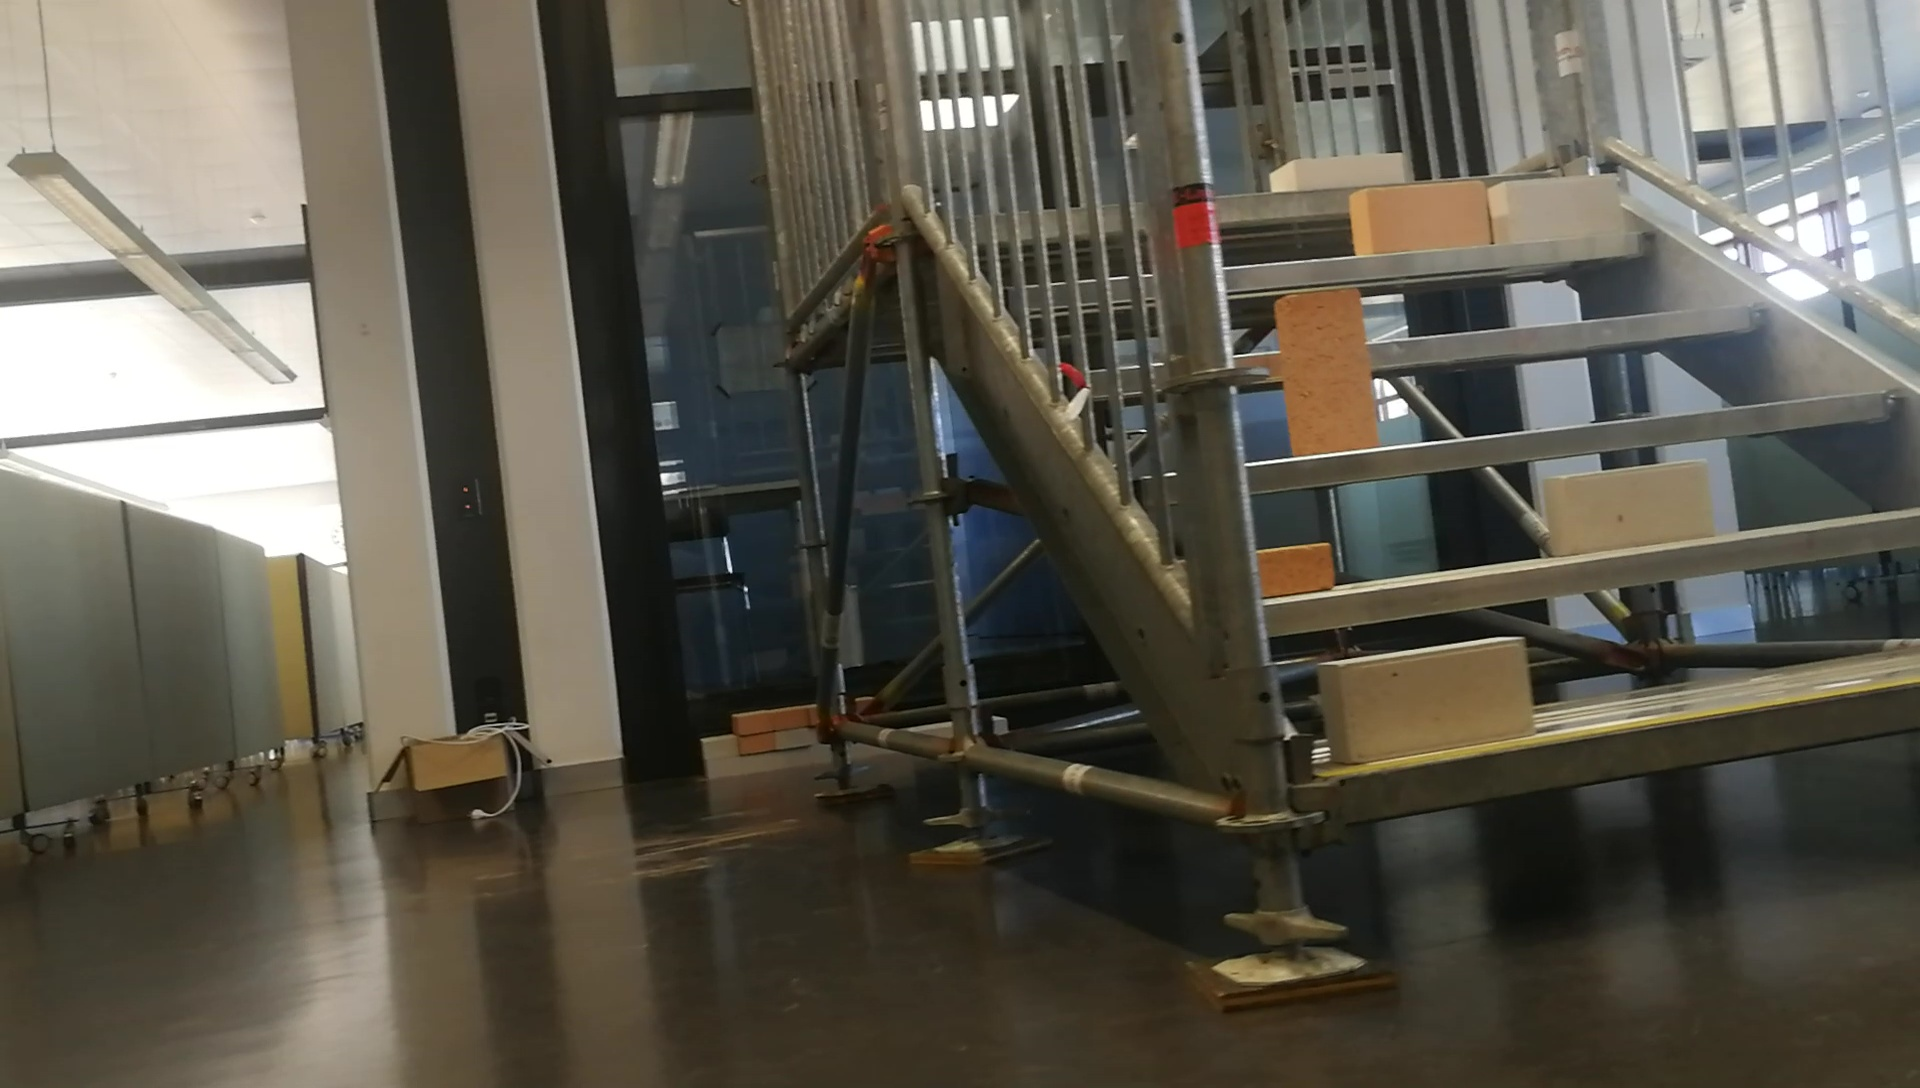brick: (1320, 634, 1532, 771), (1275, 291, 1378, 454), (1544, 458, 1710, 558), (1352, 181, 1482, 251), (1491, 178, 1621, 243), (1273, 153, 1406, 189), (1258, 542, 1328, 599)
edge: (1259, 514, 1917, 634), (1338, 684, 1915, 818)
stairs: (1193, 5, 1911, 1004)
